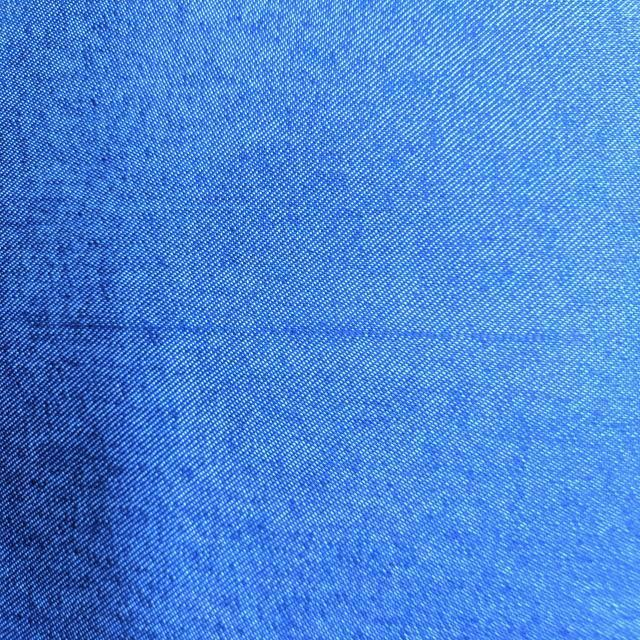Line: (27, 319, 585, 343)
